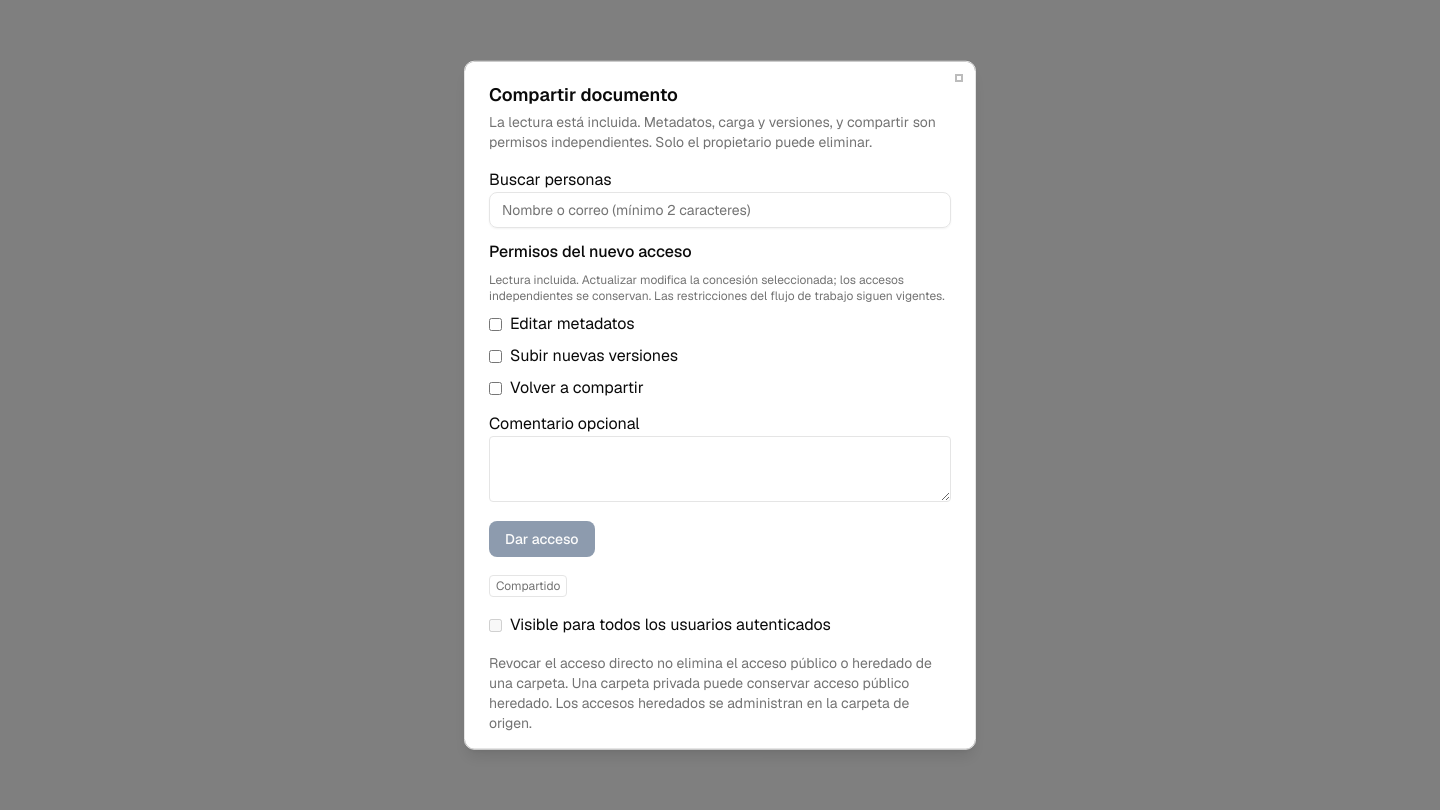
Scenario: SharingDialog › does not amplify permissions by combining independent delegation sources
What coordinates should you click on to do the following:
click the checkbox labelled "Editar metadatos"
I would click on:
 (496, 324)
Its box is [489,317,502,330].
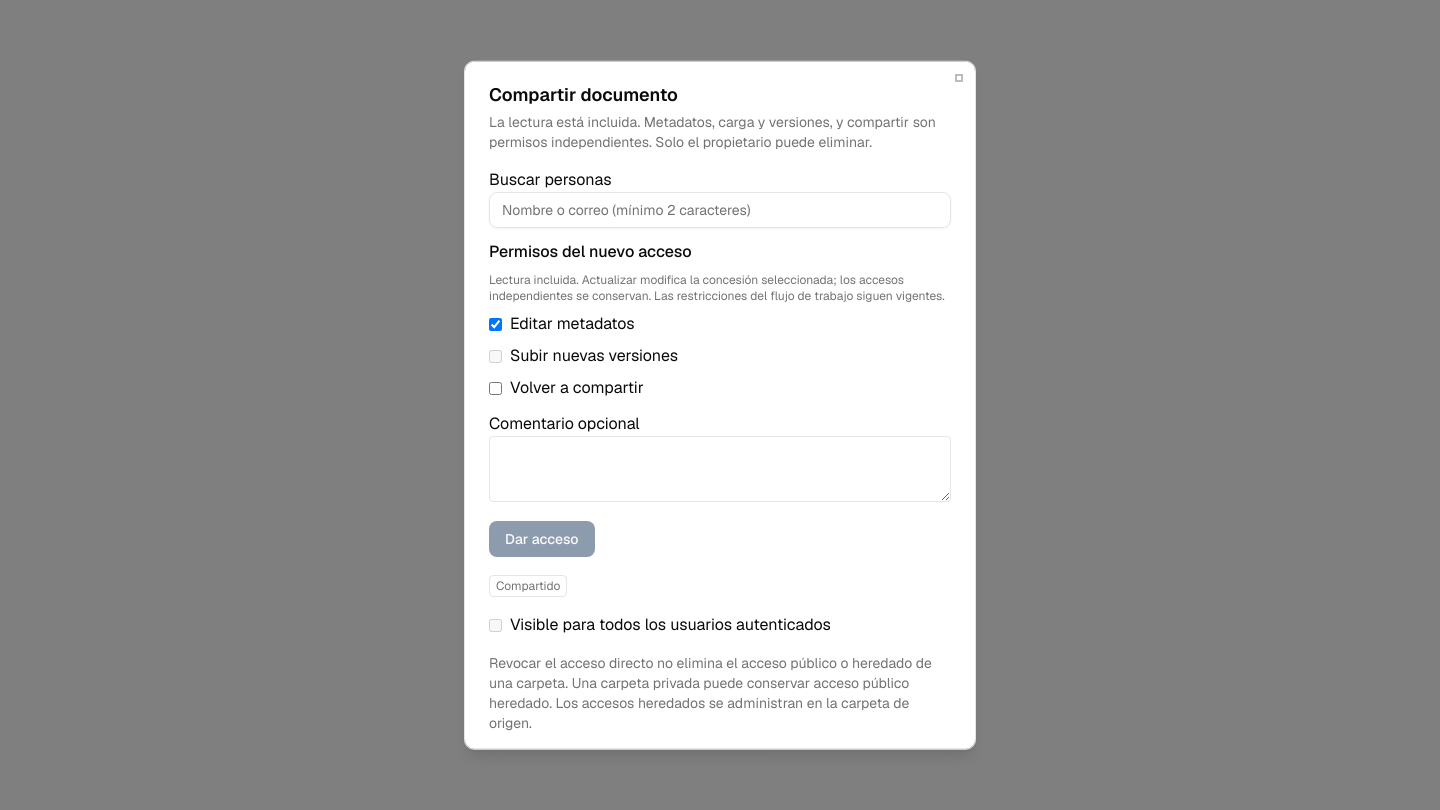
Expected: the checkbox labelled "Subir nuevas versiones" is disabled, [489,349,502,362]
What coordinates should you click on to do the following:
click the checkbox labelled "Editar metadatos"
I would click on:
 (496, 324)
Its box is [489,317,502,330].
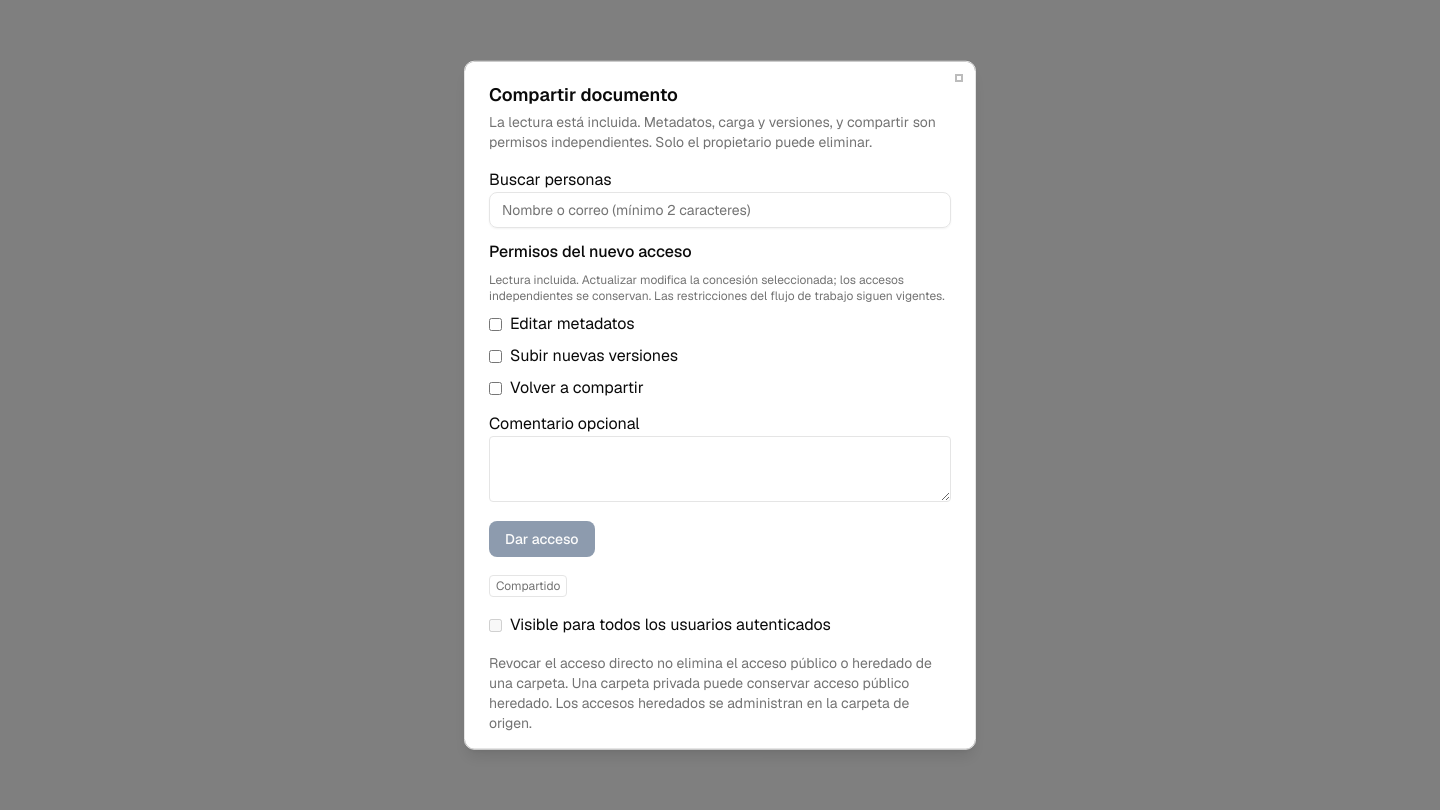
Expected: the checkbox labelled "Visible para todos los usuarios autenticados" is disabled, [489,618,502,631]
Expected: the checkbox labelled "Subir nuevas versiones" is enabled, [489,349,502,362]
